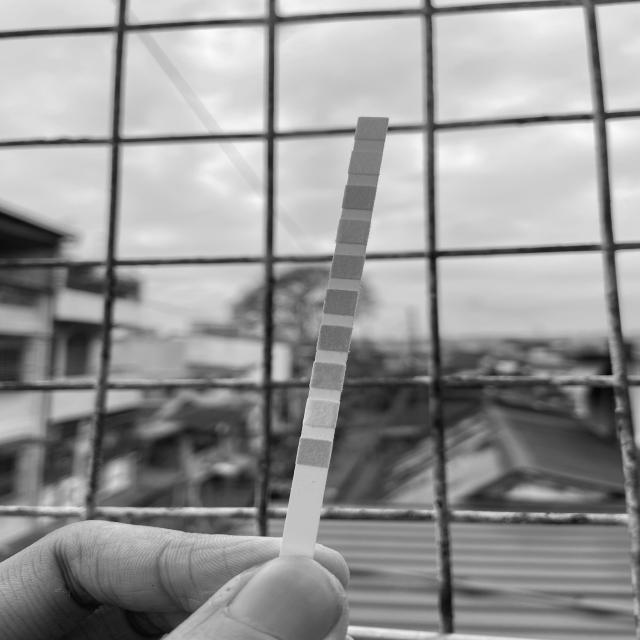Bilirubin: (307, 402, 336, 424)
Blood: (327, 292, 355, 313)
Glucose: (300, 441, 329, 463)
Ketone: (313, 366, 343, 388)
Leukocytes: (358, 118, 385, 139)
Nitrite: (351, 152, 379, 174)
Protein: (339, 221, 367, 242)
SpGravity: (321, 327, 349, 349)
Urobilinogen: (345, 187, 373, 208)
background: (0, 0, 640, 640)
pH: (333, 256, 362, 278)
strip: (282, 117, 389, 545)
